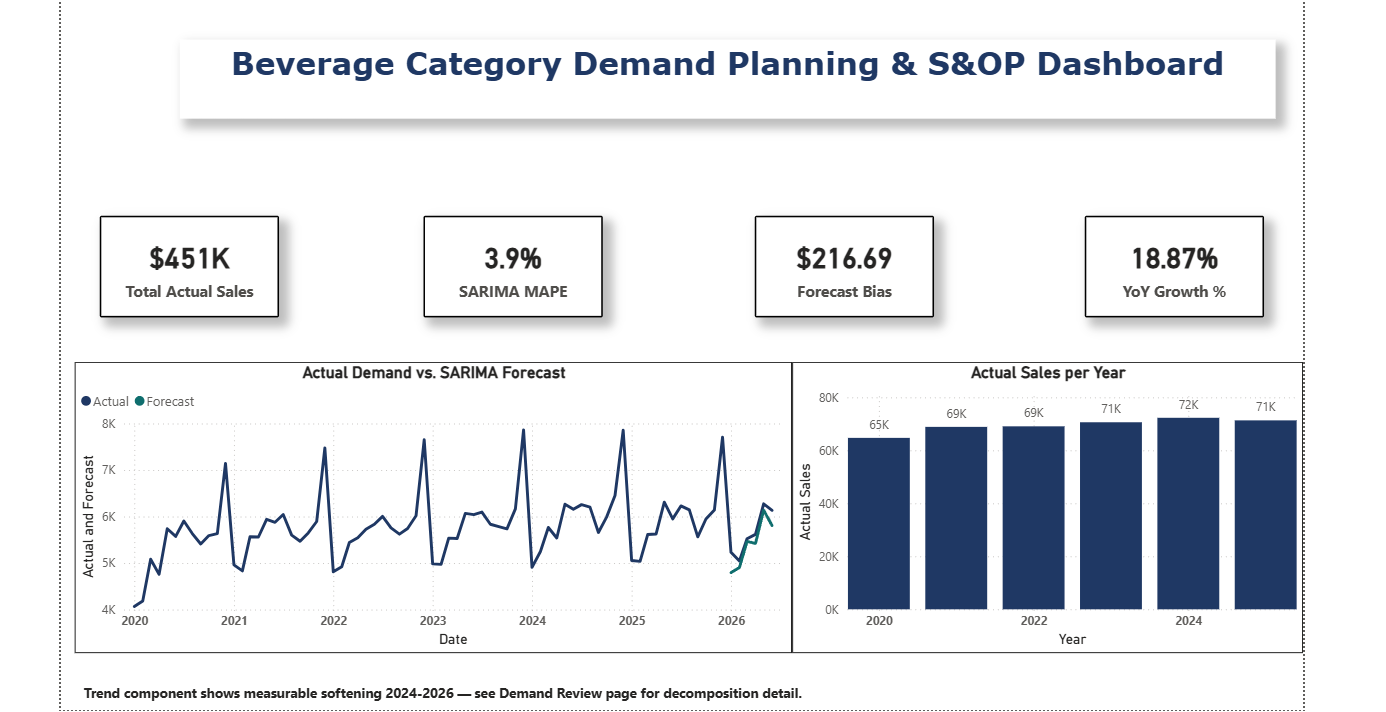

Layout of this report page (visuals, bound fields, positions):
{"tool":"powerbi","page":{"name":"Executive Summary","canvas":[1280,720],"ordinal":0},"visuals":[{"type":"card","fields":{"Values":["Fact_Demand.Total Actual Sales"]},"box":[39.9,209.9,184.8,105],"z":0},{"type":"card","fields":{"Values":["Fact_Demand.SARIMA MAPE"]},"box":[374,209.9,184.8,105],"z":1000},{"type":"card","fields":{"Values":["Fact_Demand.Forecast Bias"]},"box":[715.5,209.9,184.8,105],"z":2000},{"type":"card","fields":{"Values":["Fact_Demand.YoY Growth %"]},"box":[1055.6,209.9,184.8,105],"z":3000},{"type":"lineChart","title":"Actual Demand vs. SARIMA Forecast","fields":{"Category":["Fact_Demand.Date"],"Y":["Sum(Fact_Demand.Actual_Sales)","Sum(Fact_Demand.Forecast_SARIMA)"]},"box":[14.8,360.7,739.2,300.1],"z":4000},{"type":"textbox","box":[10.3,686.8,766.6,33.5],"z":5000},{"type":"clusteredColumnChart","title":"Actual Sales per Year","fields":{"Category":["Dim_Date.Year"],"Y":["Fact_Demand.Total Actual Sales"]},"box":[754,360.7,526.3,300.1],"z":6000},{"type":"textbox","box":[122.7,28.1,1129.5,81.3],"z":7000}]}

Visuals, with their boxes on the page's 1280x720 design canvas (x1, y1, x2, y2). These are canvas units, not pixel positions in the 1386x712 screenshot, which may show the page scaled, cropped or inside an application window:
card - Fact_Demand.Total Actual Sales: 40:210:225:315
card - Fact_Demand.SARIMA MAPE: 374:210:559:315
card - Fact_Demand.Forecast Bias: 716:210:900:315
card - Fact_Demand.YoY Growth %: 1056:210:1240:315
"Actual Demand vs. SARIMA Forecast" lineChart: 15:361:754:661
textbox: 10:687:777:720
"Actual Sales per Year" clusteredColumnChart: 754:361:1280:661
textbox: 123:28:1252:109
